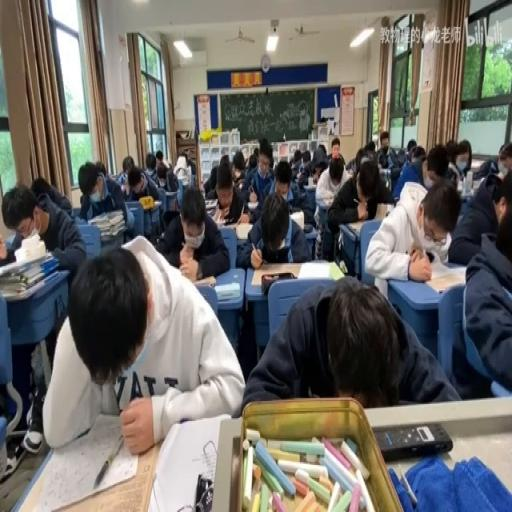calculator: (30, 407, 144, 509), (151, 412, 231, 512), (424, 262, 466, 293), (345, 216, 384, 238), (297, 260, 334, 280), (214, 282, 240, 300), (162, 188, 178, 212), (234, 219, 252, 240), (374, 202, 390, 222), (314, 196, 330, 215), (193, 273, 216, 286), (290, 209, 304, 230), (378, 168, 390, 189), (468, 176, 483, 192), (211, 205, 225, 222), (204, 196, 218, 212), (178, 174, 190, 184), (306, 176, 315, 188), (247, 201, 258, 209)
paper: (45, 230, 242, 452), (245, 276, 457, 408), (364, 176, 456, 289), (2, 178, 84, 288), (155, 180, 229, 278), (448, 160, 506, 268), (237, 185, 313, 267), (311, 155, 349, 257), (79, 158, 130, 233), (122, 162, 160, 238), (246, 136, 276, 202), (392, 155, 427, 199), (425, 142, 449, 186), (151, 158, 179, 193), (230, 149, 248, 188), (202, 158, 220, 195), (0, 226, 17, 265), (373, 131, 390, 168), (472, 156, 498, 180), (32, 175, 50, 202), (328, 135, 344, 165), (274, 162, 290, 189), (498, 142, 511, 171), (444, 138, 457, 164), (352, 148, 365, 173), (182, 154, 196, 175), (444, 165, 458, 186), (122, 155, 134, 176), (458, 148, 470, 169), (394, 145, 406, 166), (296, 166, 307, 184), (94, 161, 106, 176), (406, 138, 417, 154), (247, 154, 258, 169), (154, 150, 164, 164), (116, 170, 126, 184), (366, 138, 376, 151), (317, 142, 326, 156), (146, 156, 155, 170), (293, 148, 301, 163), (301, 149, 310, 162)
person: (374, 422, 451, 461), (194, 471, 214, 509), (262, 272, 294, 294), (338, 257, 347, 273)
